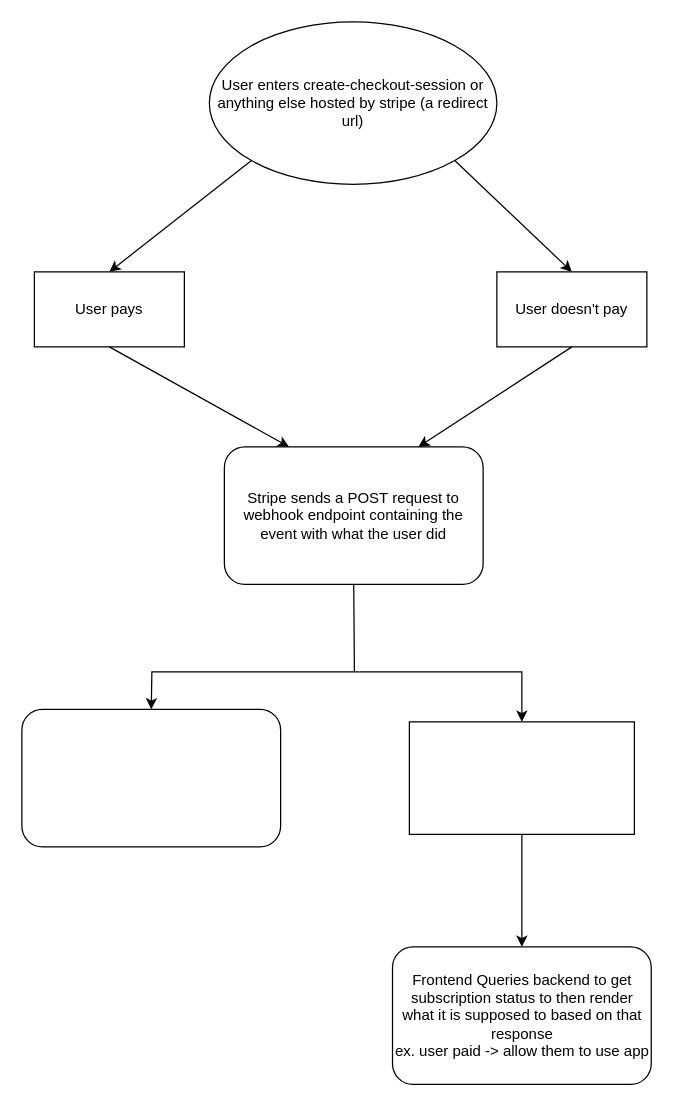
This 674x1106 diagram has some shape labels left out. Each missing label, with the centre of its shape:
"Backend handles the event and updates the db and whatever else we need to do" belongs at (x=151, y=777).
"User gets redirected from stripes page back to our webpage" belongs at (x=521, y=777).
